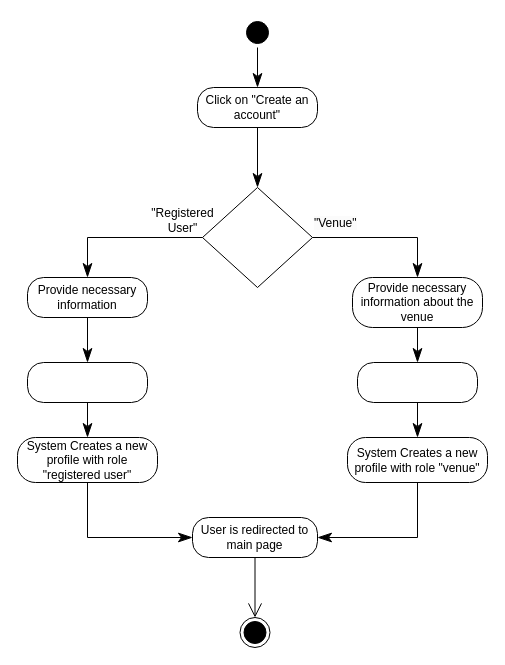
The diagram is 505 pixels wide and 665 high, and some of its shapes have lost their labels. The shapes that lost their labels are listed below. From the top down, each one's box as (x1, y1, x2, y2) in pixels, then its label:
(202, 186, 312, 288): Choose Role for your account
(26, 362, 148, 402): Select Event-type Preferences
(356, 362, 478, 402): System verifies information provided
